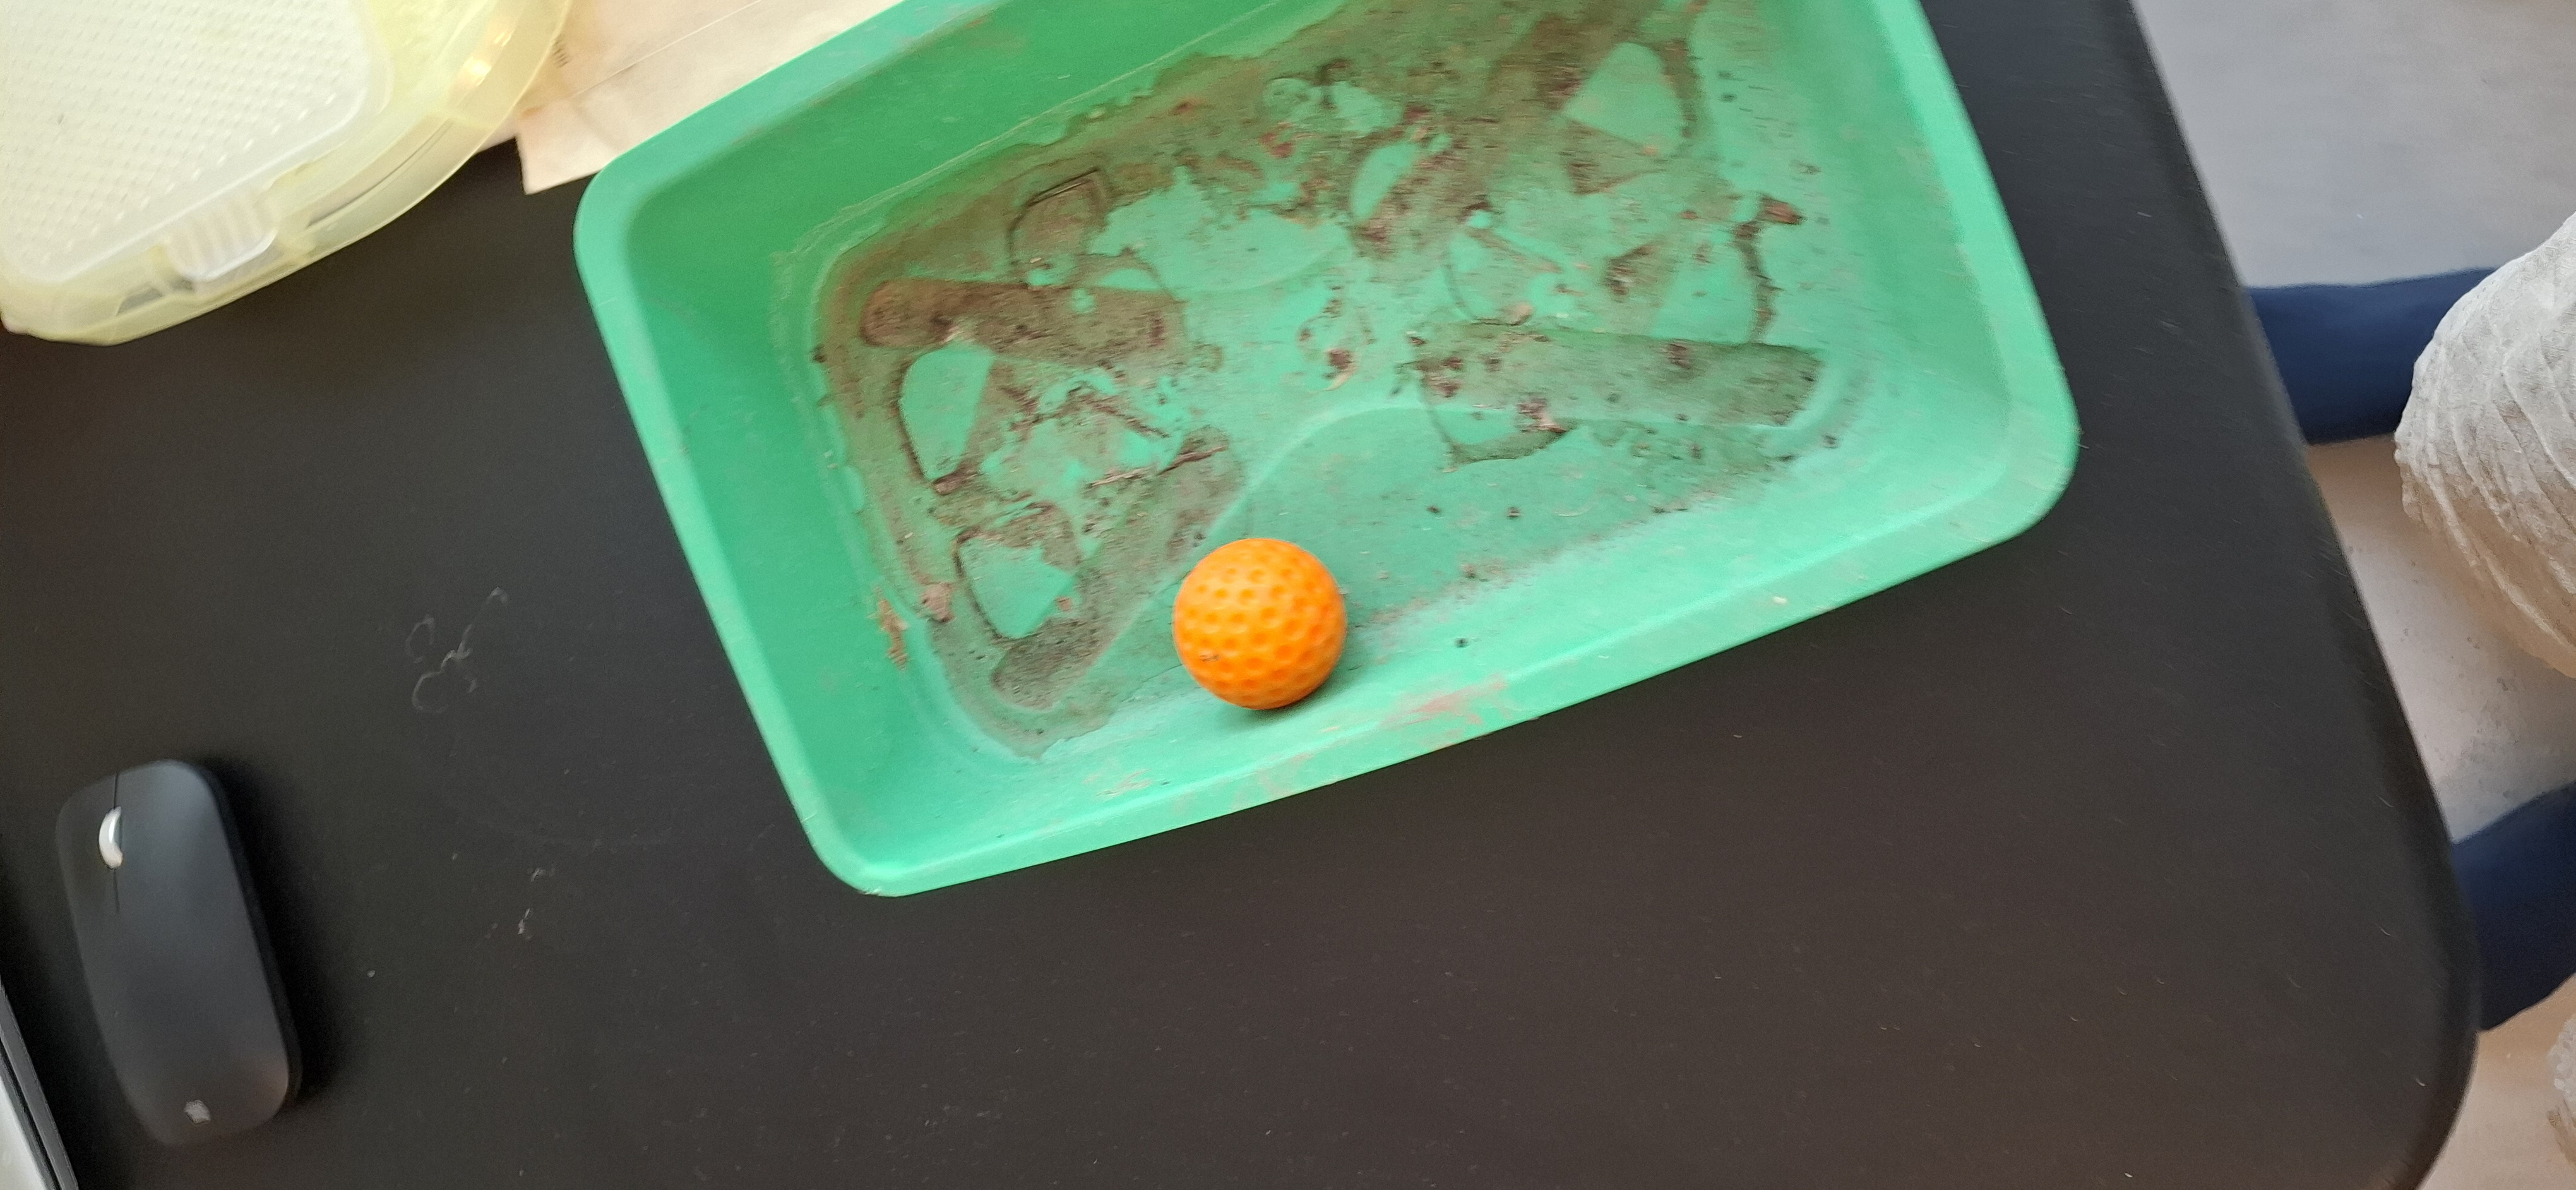ball: (1173, 537, 1350, 717)
